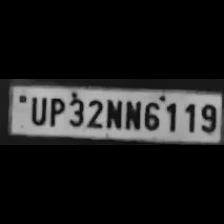1: (162, 100, 180, 132), (180, 99, 196, 133)
2: (84, 96, 104, 130)
3: (66, 95, 84, 127)
6: (140, 98, 162, 132)
9: (196, 100, 218, 134)
N: (104, 96, 122, 130), (122, 97, 140, 131)
P: (46, 96, 64, 127)
U: (27, 94, 46, 124)
